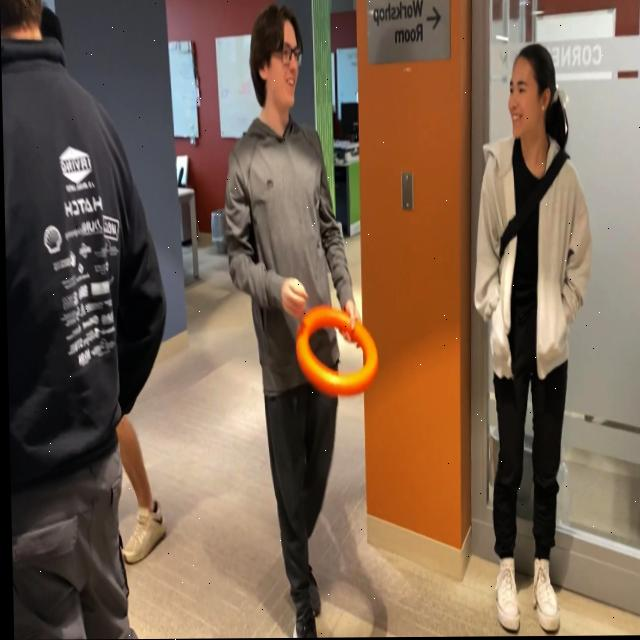note: (291, 300, 379, 404)
